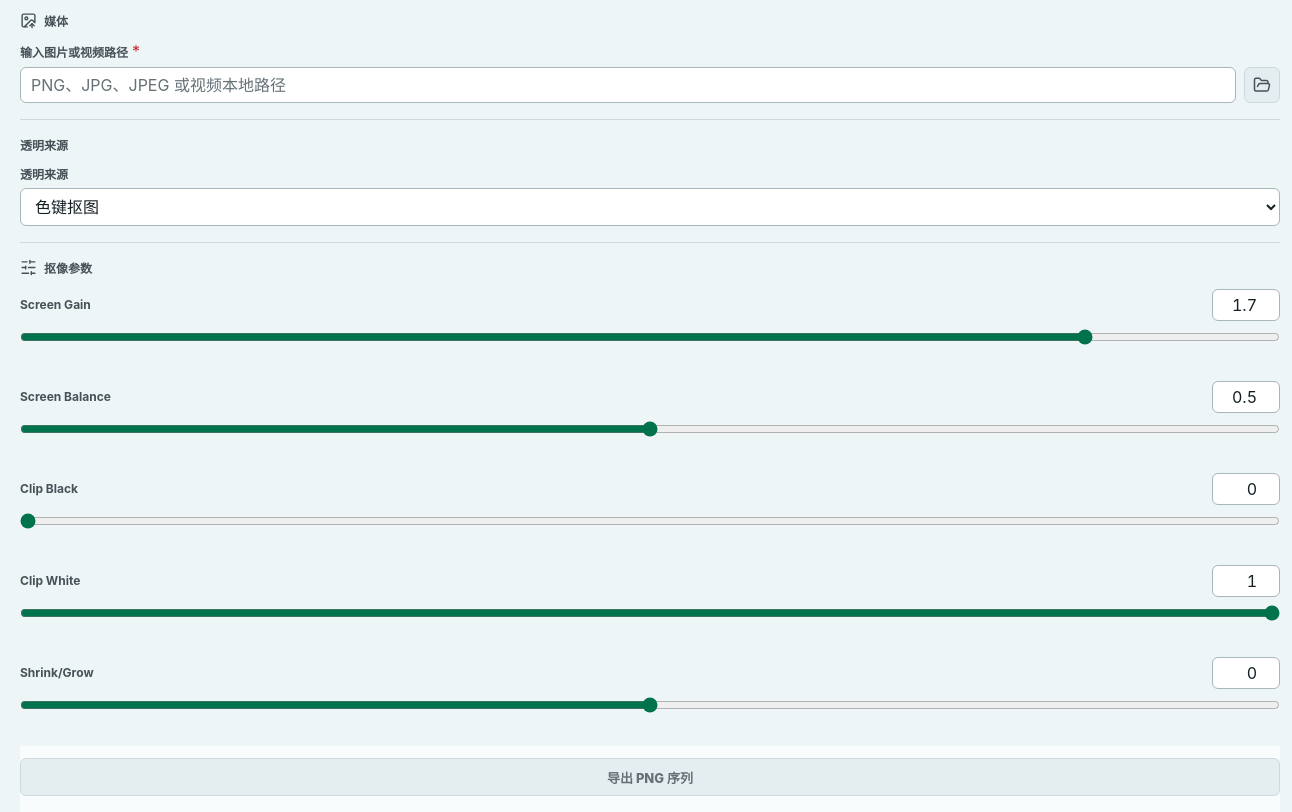
Test: ChromaKeyerForm › selects source alpha, forces MP4, and exports without background sampling
Select "视频原始透明通道" in the dropdown labelled "透明来源" at [650, 207], box [20, 188, 1280, 226]
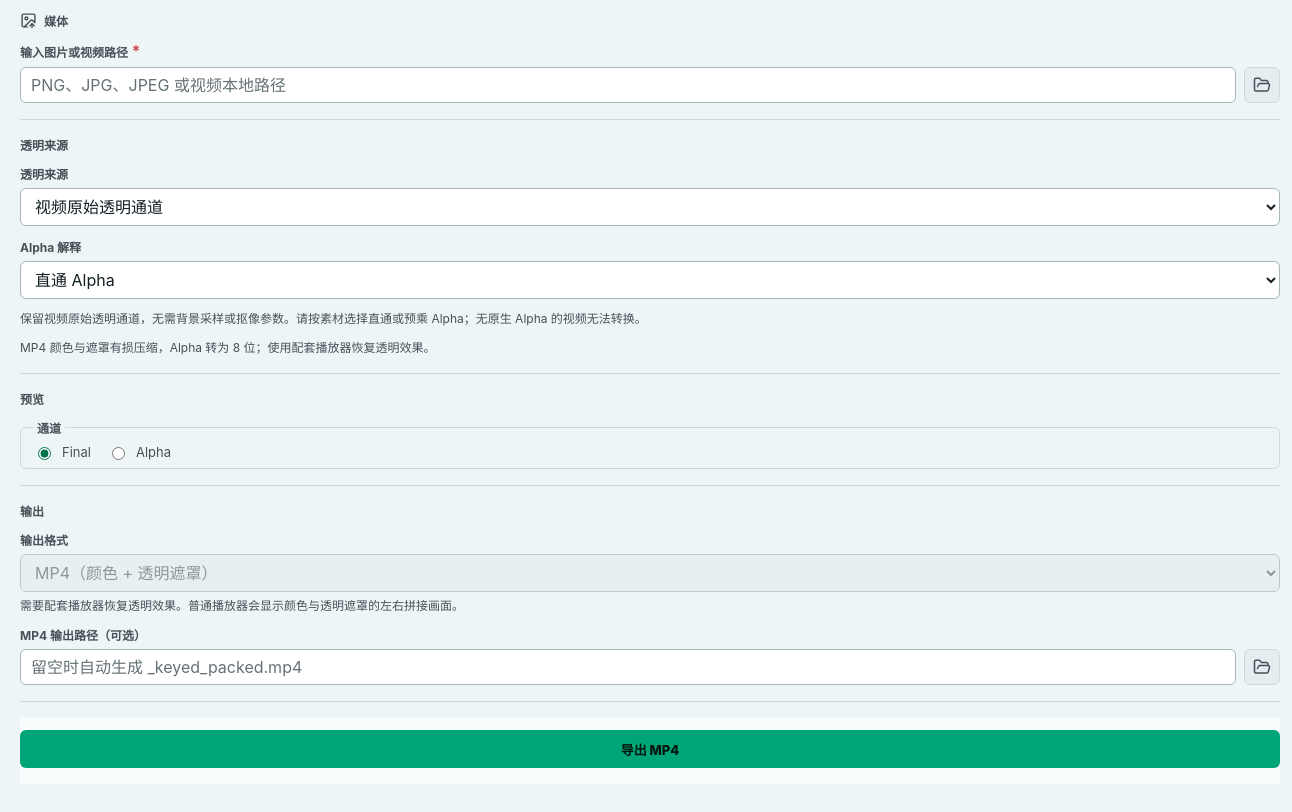
Expected: the dropdown labelled "输出格式" shows "MP4（颜色 + 透明遮罩）", [20, 554, 1280, 592]
Expected: the dropdown labelled "输出格式" is disabled, [20, 554, 1280, 592]
Expected: the dropdown labelled "Alpha 解释" shows "直通 Alpha"
Select "预乘 Alpha" in the dropdown labelled "Alpha 解释" at [650, 280], box [20, 261, 1280, 299]
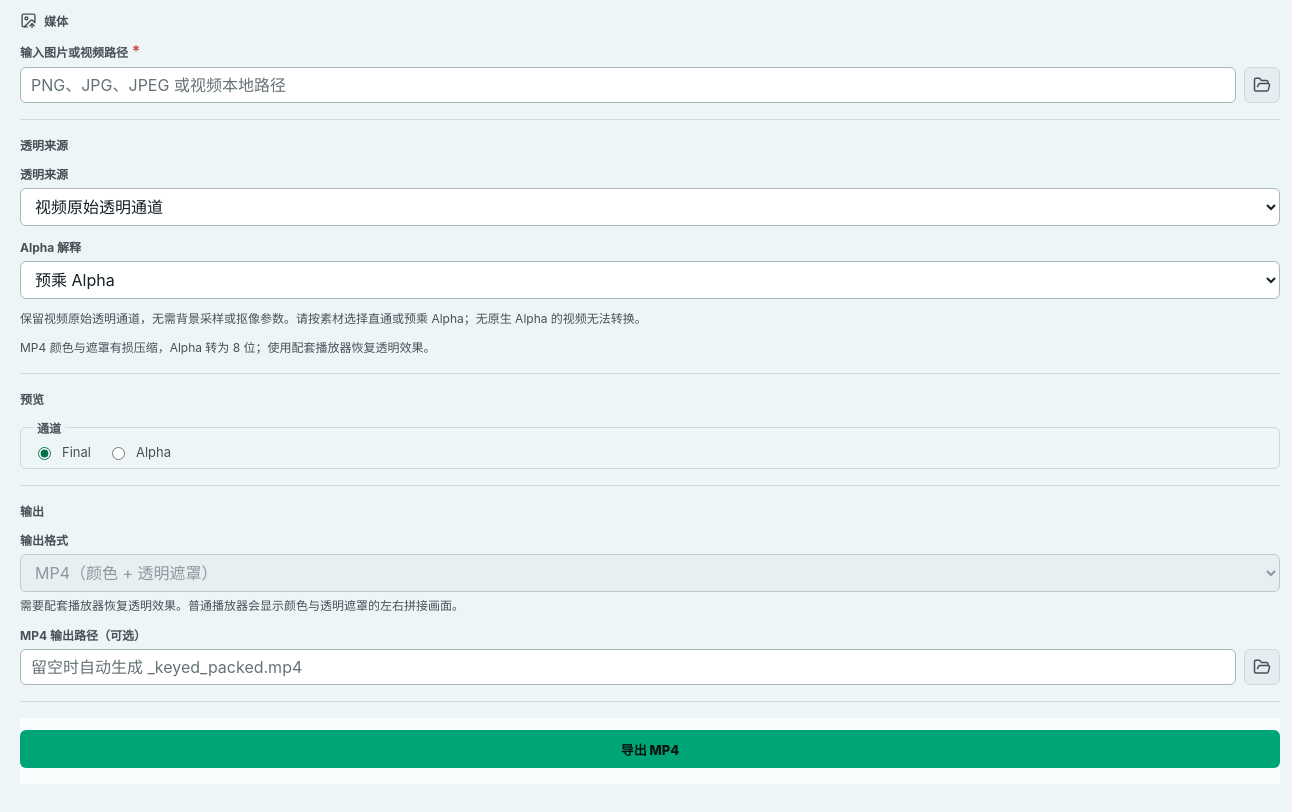
Select "色键抠图" in the dropdown labelled "透明来源" at [650, 207], box [20, 188, 1280, 226]
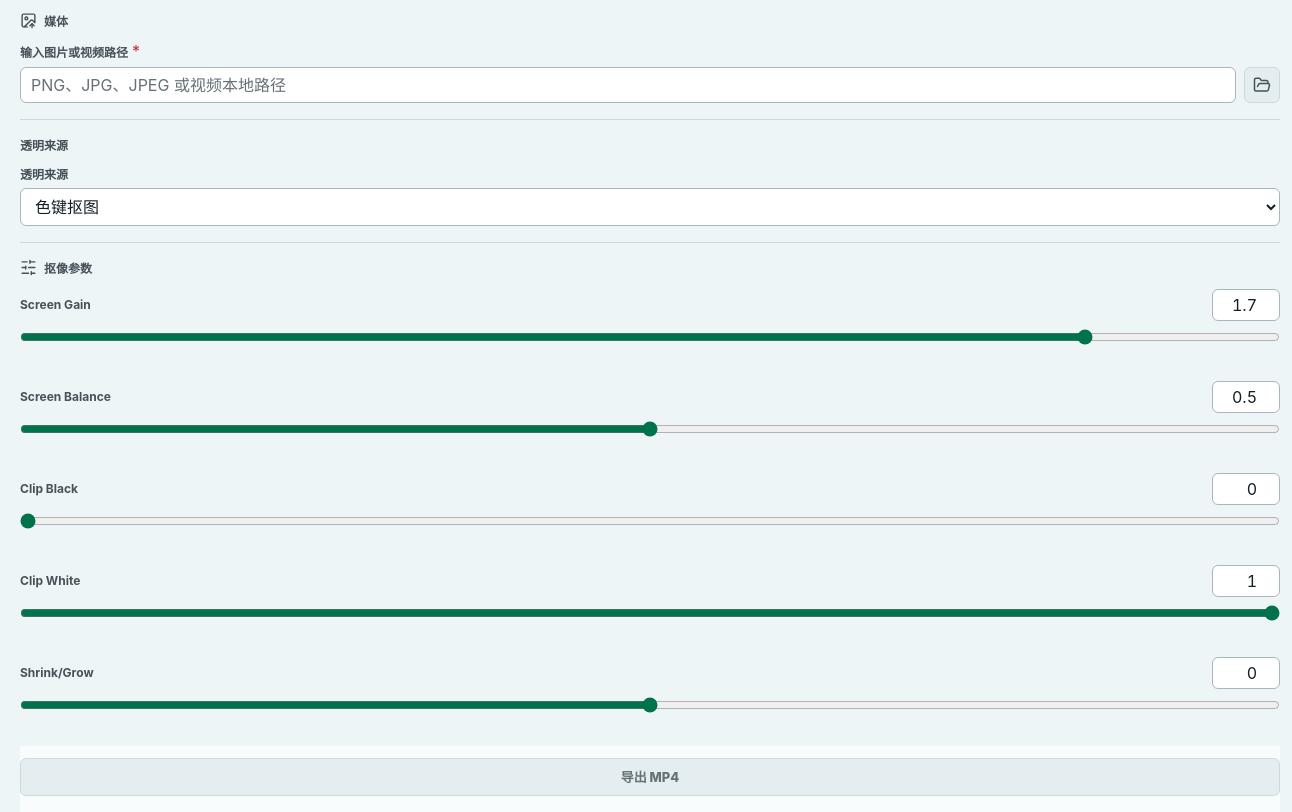
Expected: the number field named "Screen Gain 数值" holds "1.7", [1212, 289, 1280, 321]
Expected: the button "导出 MP4" is disabled, [20, 758, 1280, 796]
Expected: the label "Alpha 解释" is gone
